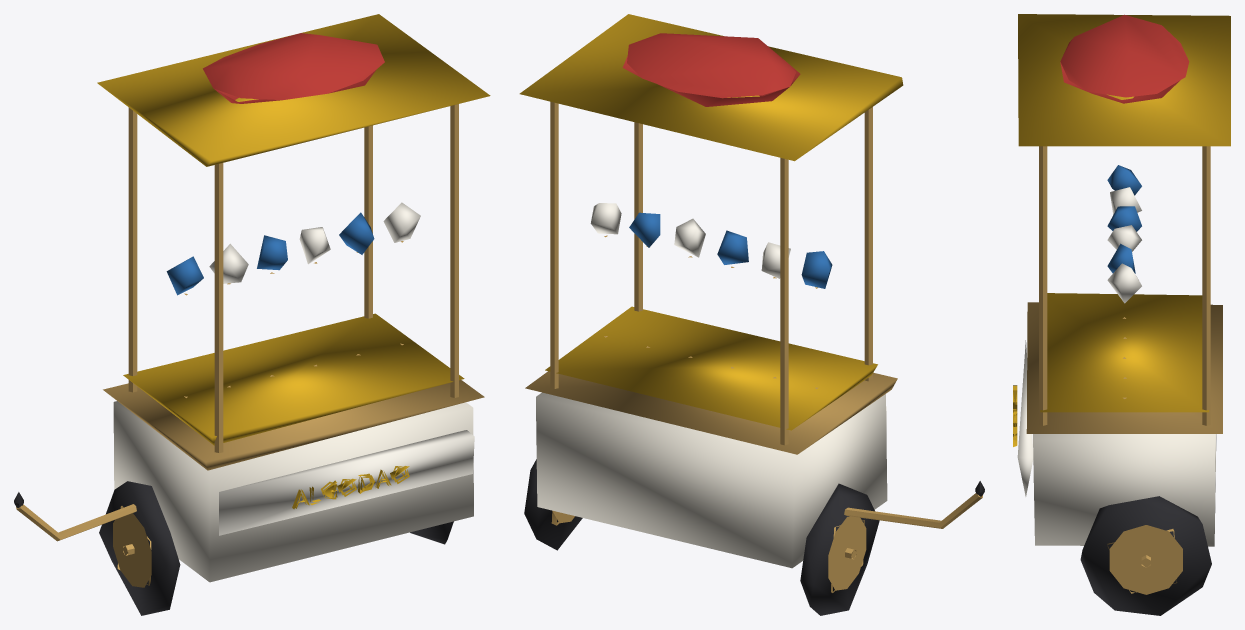
The model's file is lod_cotton_candy_cart.glb.
The picture shows the model from 3 angles, left to right: view 1: azimuth 30°, elevation 25°; view 2: azimuth 150°, elevation 25°; view 3: azimuth 270°, elevation 25°; orthographic projection. The views are drawn at different scales.
Parts seen in each view (by area): view 1: cotton_candy_cart; view 2: cotton_candy_cart; view 3: cotton_candy_cart.
Boxes of the visible parts, x1,y1,x2,y2 form: cotton_candy_cart: (14,14,490,615); cotton_candy_cart: (519,14,984,615); cotton_candy_cart: (1013,14,1230,615).
Bounding box in the file's own units: 2.23 × 2.63 × 1.01.
